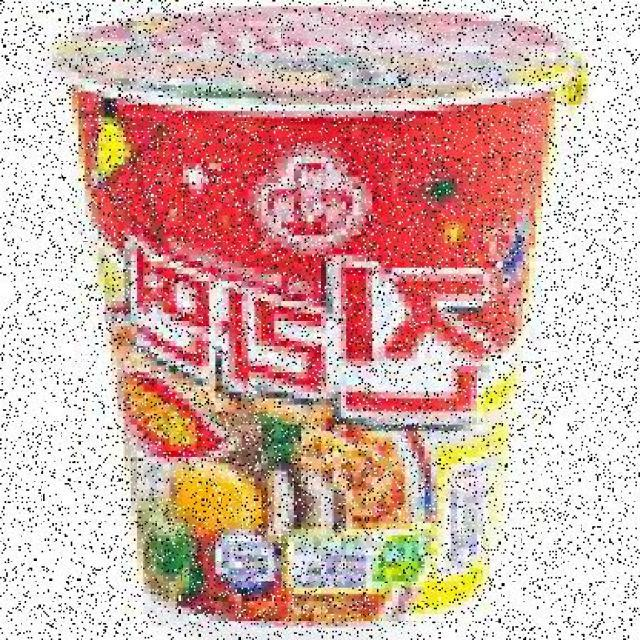Miscellaneous: (48, 12, 588, 623)
